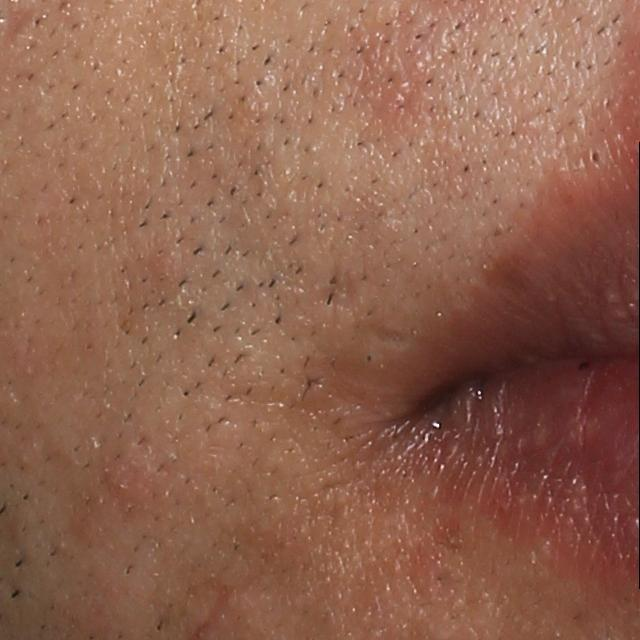atrophic_scar: (1, 2, 42, 50)
comedo: (583, 141, 610, 172)
papule: (98, 442, 171, 510)
